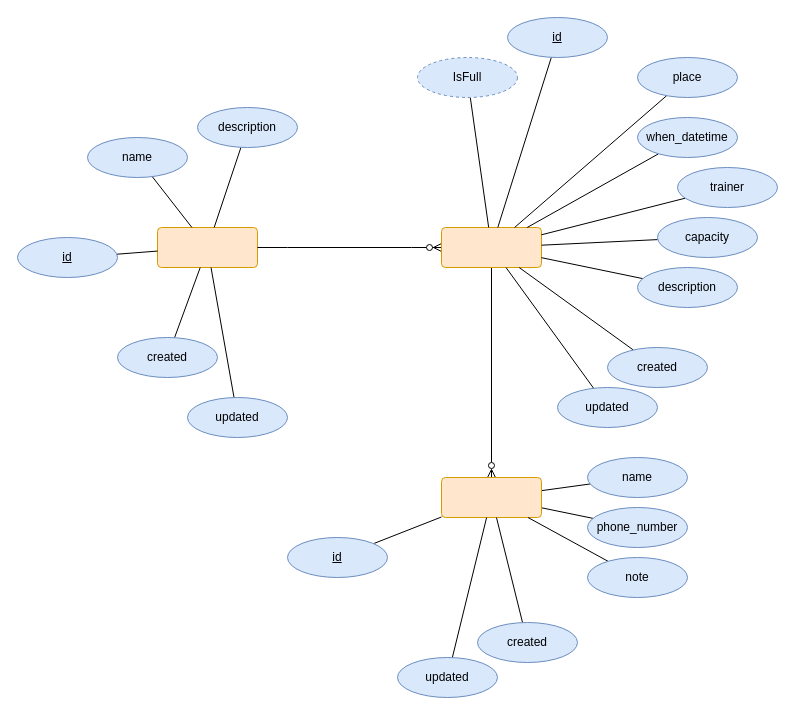
This 795x715 diagram has some shape labels left out. Here are the shapes that lost their labels. From the top down, the centre of each, then its label:
the point at 207,247: Course
the point at 491,247: Lesson
the point at 491,497: Participant
